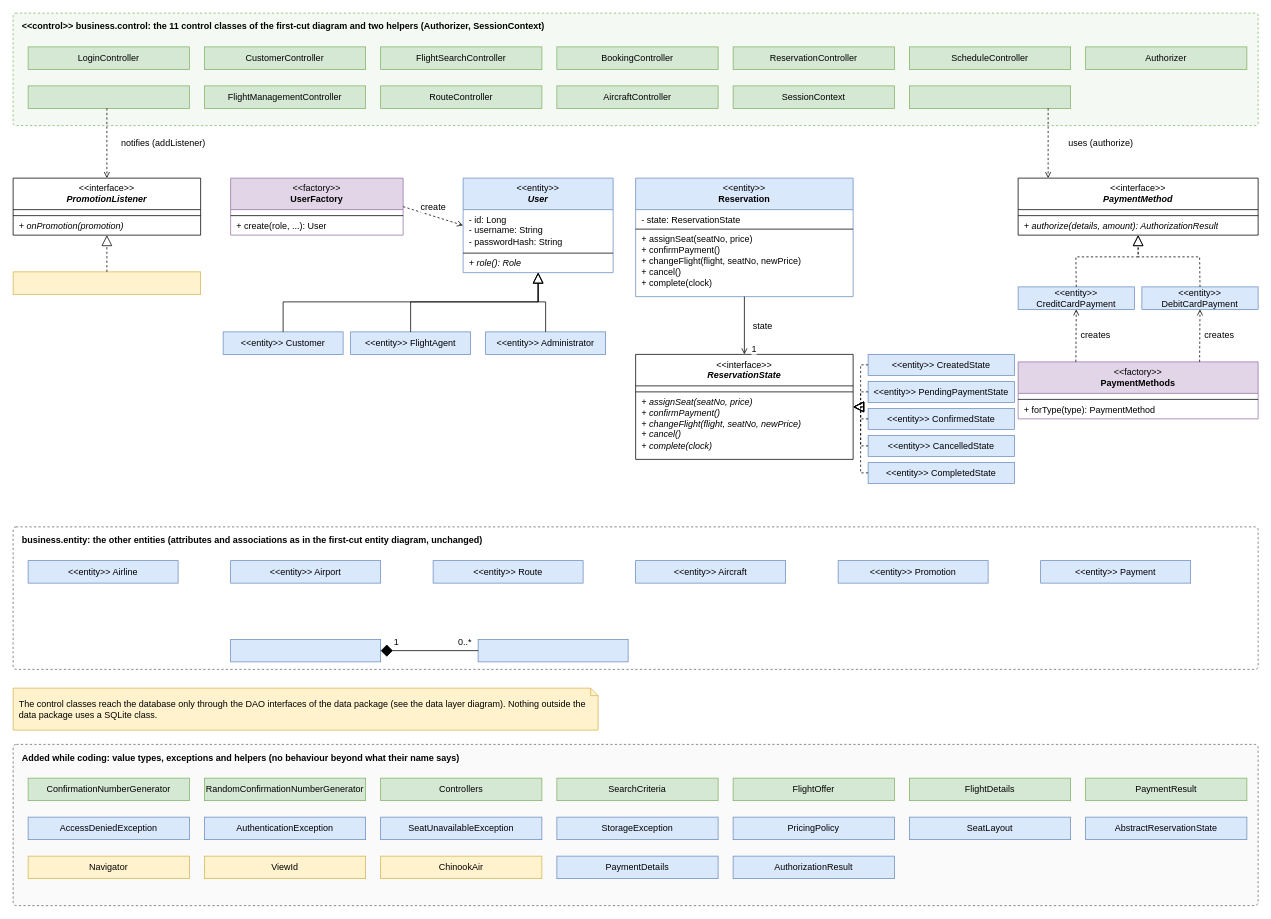
This 1271x919 diagram has some shape labels left out. The centre of each missing label's shape, as x and y in pixels:
"<<boundary>> MainFrame" goes at [106,282].
"<<entity>> Flight" goes at [305,650].
"<<entity>> Seat" goes at [552,650].
"PaymentController" goes at [990,96].
"PromotionController" goes at [108,96].
